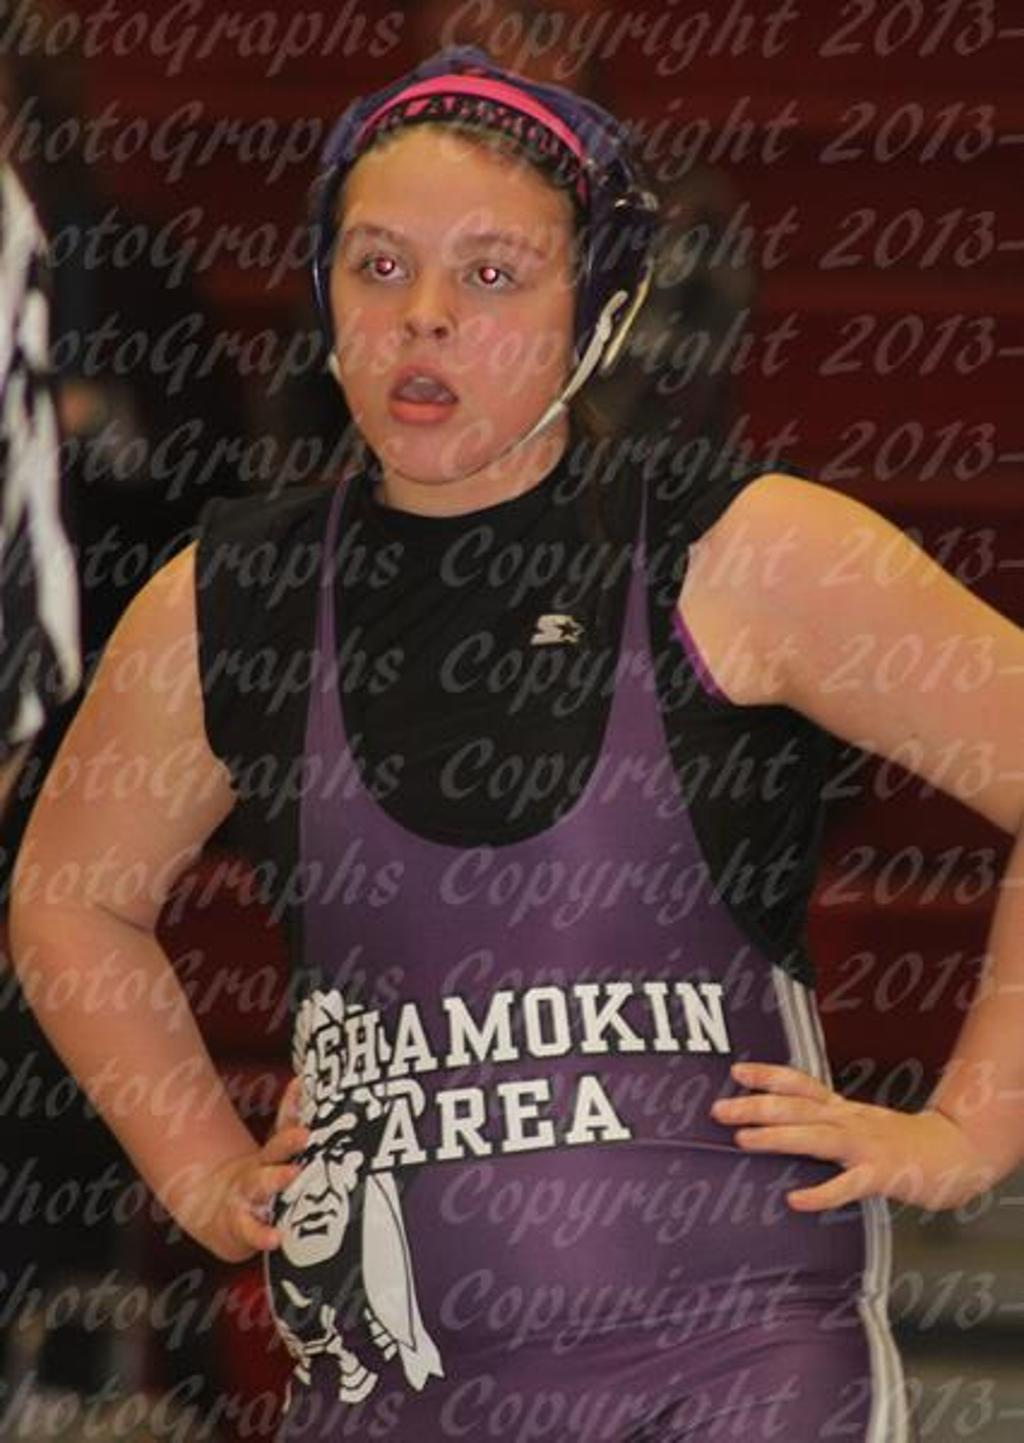face: (329, 155, 574, 476)
